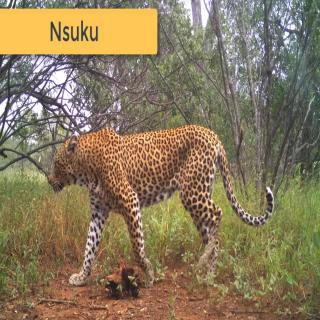Leopard: (50, 124, 275, 290)
